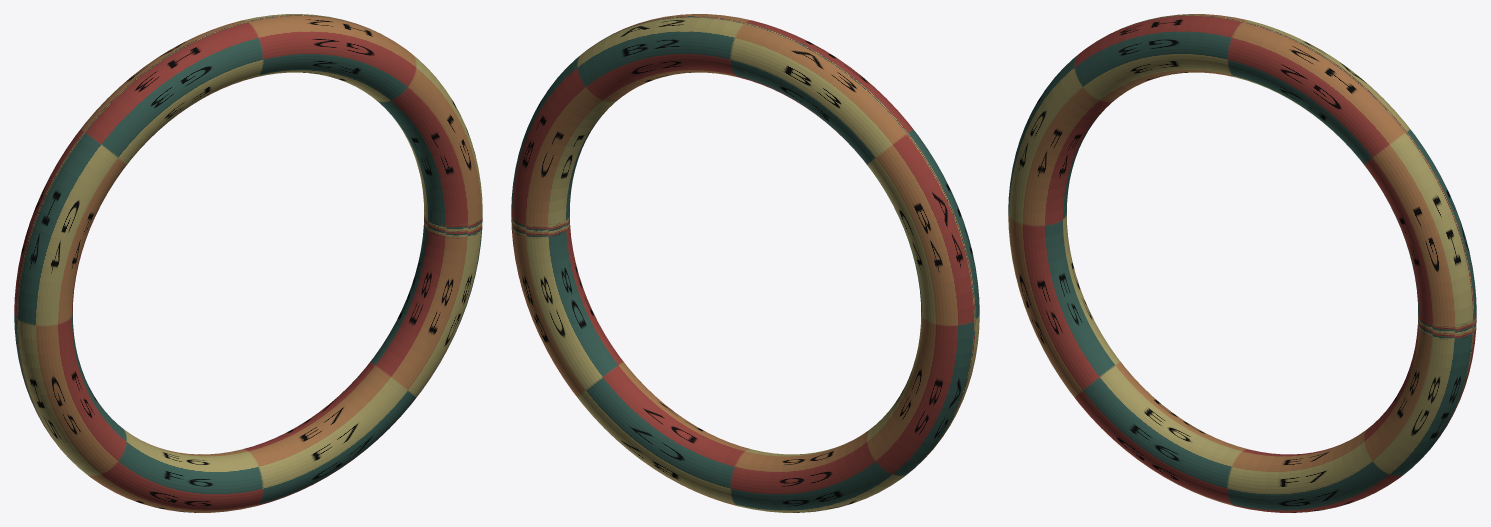
Rendered from texture_torus_R6_r1.glb.
3 renders of one model, left to right at view 1: azimuth 30°, elevation 25°; view 2: azimuth 150°, elevation 25°; view 3: azimuth 330°, elevation 25°, orthographic.
Visible parts, largest first — view 1: world; view 2: world; view 3: world.
Boxes of the visible parts, x1,y1,x2,y2 form: world: (14,14,482,512); world: (511,14,979,512); world: (1008,14,1476,512).
Size of the model in its own units: 26.22 by 26.22 by 2.88.
Materials: 1 (1 with a texture image).
